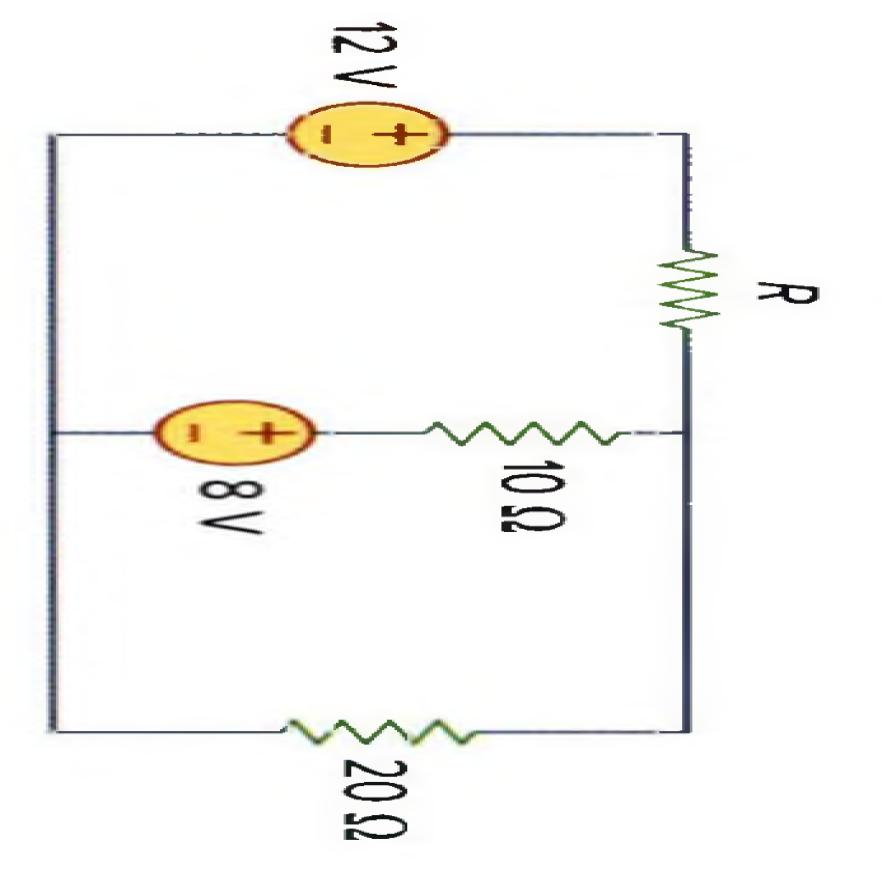V2: (285, 102, 446, 168), (155, 399, 311, 466)
